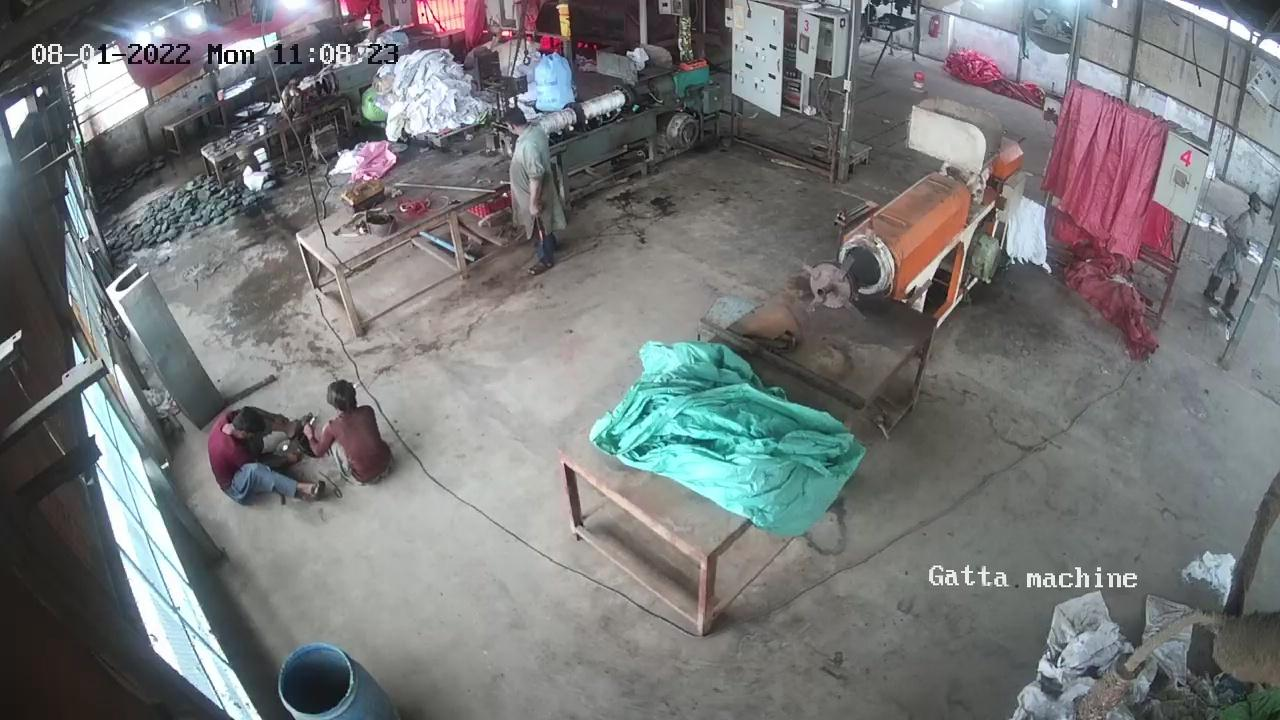person: (491, 110, 560, 288), (214, 418, 295, 515), (326, 387, 387, 468)
